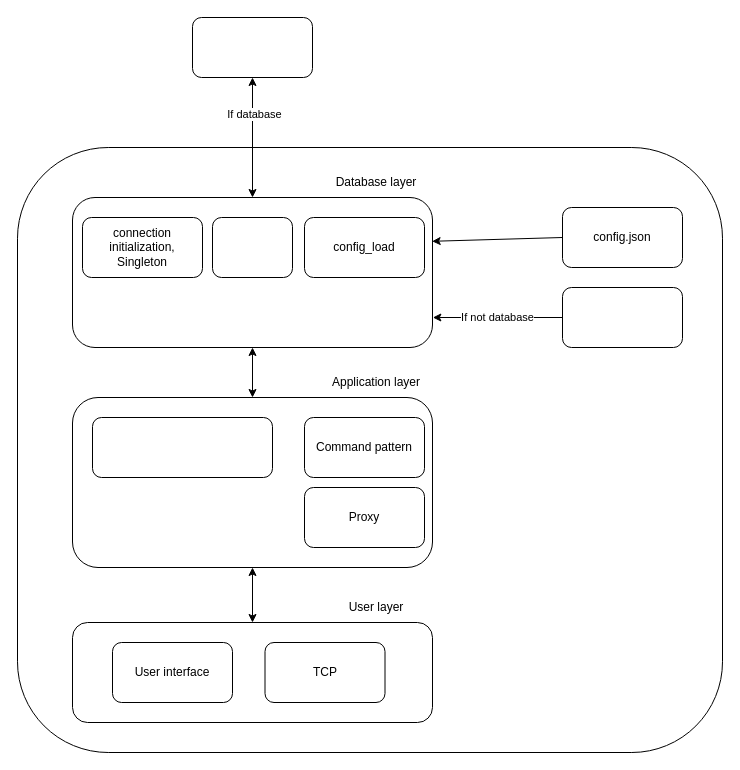
Image size: 740x770. Some labels were removed from this diagram. Each missing label, with the centre of its shape:
DAO: (x=252, y=247)
data.json: (x=622, y=317)
Database (MySQL): (x=252, y=47)
Input Validation (parser): (x=182, y=447)
